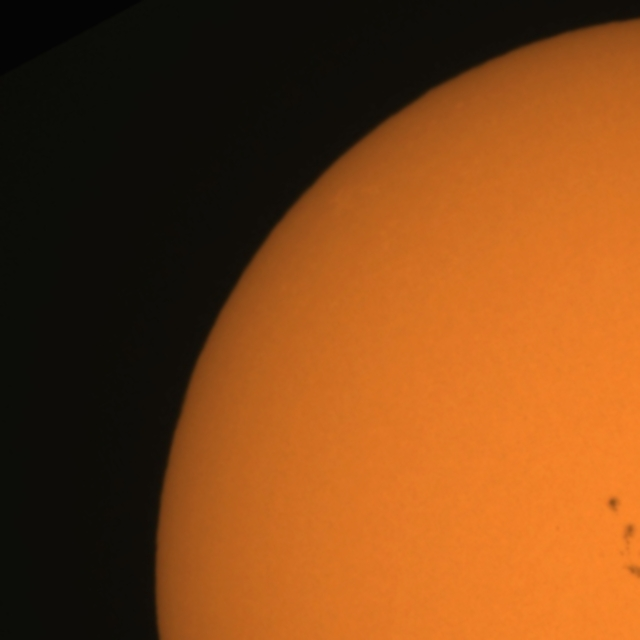sunspot: (617, 521, 639, 564), (604, 494, 622, 516), (622, 560, 640, 581)
